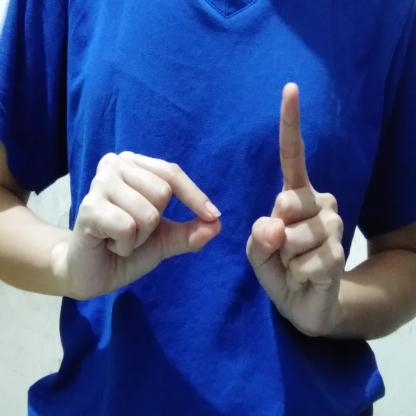son: (68, 78, 362, 346)
